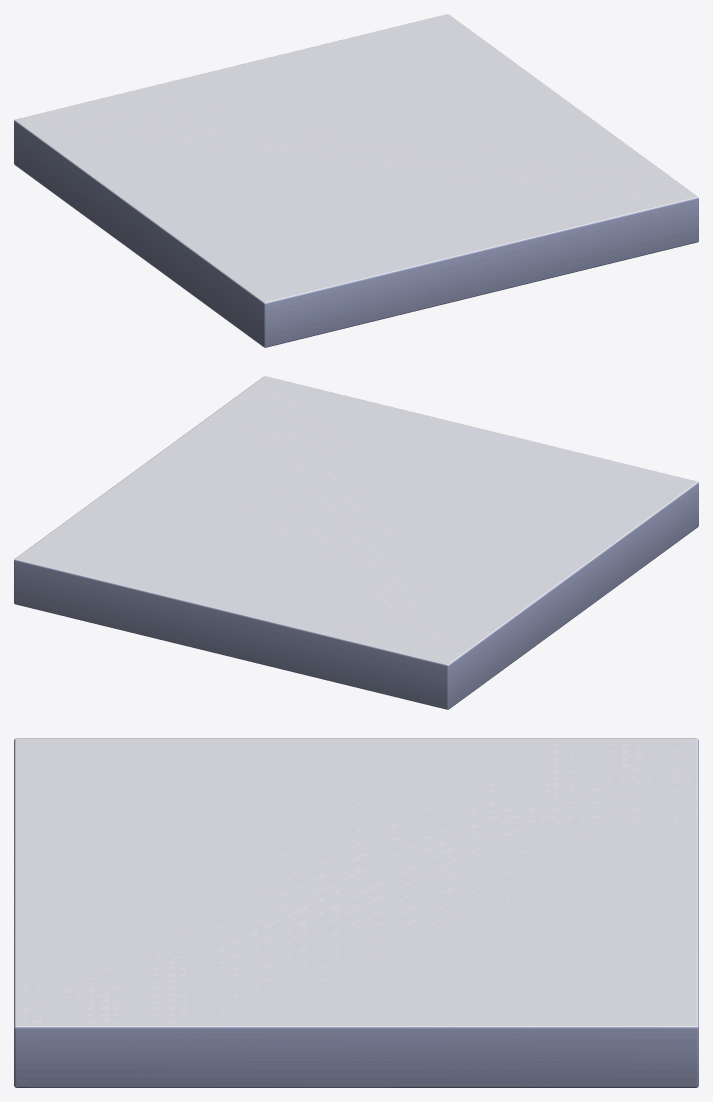
File: floor-quarter.glb
3 views of the same model, one above another, from view 1: azimuth 30°, elevation 25°; view 2: azimuth 150°, elevation 25°; view 3: azimuth 270°, elevation 25° (orthographic). The views are drawn at different scales.
Parts seen in each view (by area): view 1: floor-quarter; view 2: floor-quarter; view 3: floor-quarter.
Boxes of the visible parts, x1=… form: floor-quarter: x1=14, y1=14, x2=698, y2=347; floor-quarter: x1=14, y1=376, x2=698, y2=709; floor-quarter: x1=14, y1=738, x2=698, y2=1087.
Size of the model in its own units: 1 by 0.1 by 1.
1 material, 1 textured.
